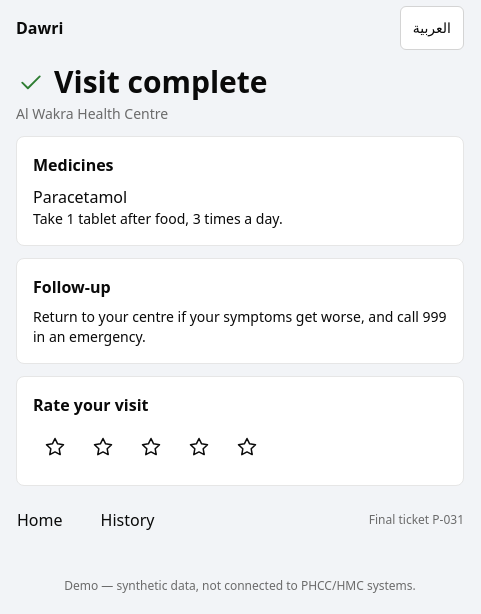
Test: S11 visit complete › offers five rating controls and sends the choice
Click the 4th button with test id "rate-star" at (199, 447), box [177,425,221,469]
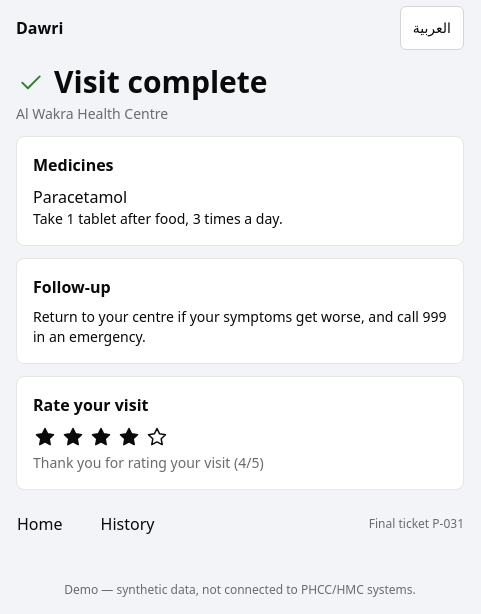
Result: the element with test id "rating-read-only" shows "4/5" at [33,425,264,472]
